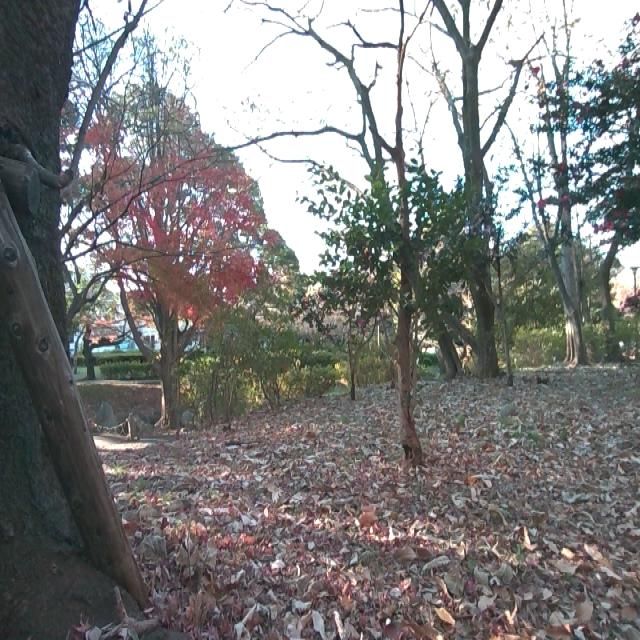bush: (176, 338, 392, 420)
tree: (0, 0, 154, 635), (435, 0, 556, 383), (521, 0, 601, 360), (112, 184, 216, 415), (378, 0, 430, 453), (593, 181, 639, 343)
